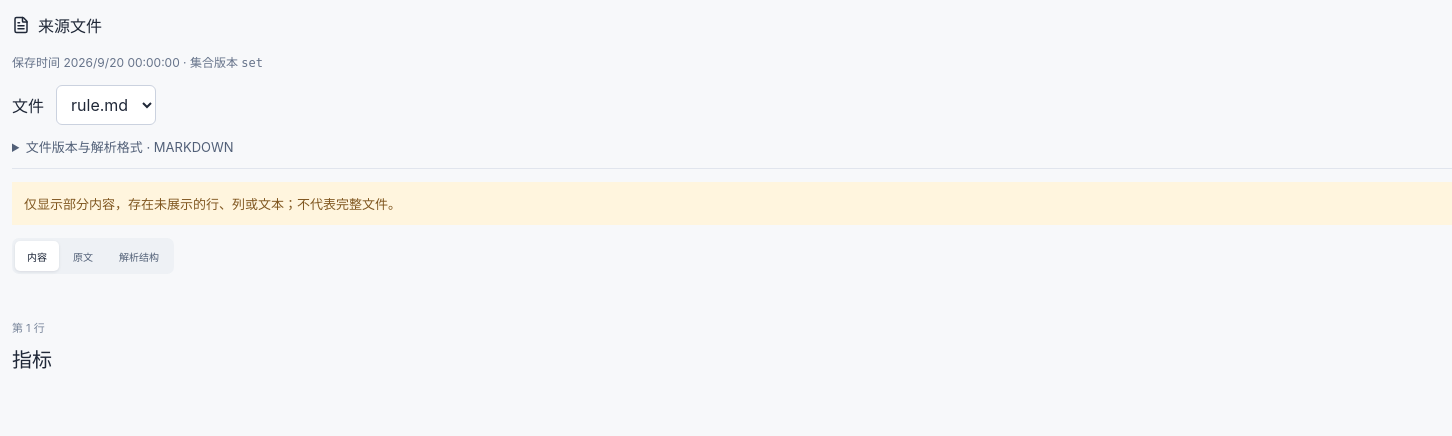
Test: previews inert markdown and makes truncation visible
Expected: the text "仅显示部分内容，存在未展示的行、列或文本；不代表完整文件。" is shown, [12,182,1451,225]
Expected: the heading "指标" is shown, [12,348,52,372]
Click the tab "原文". click: (83, 256)
box: [61,241,105,271]
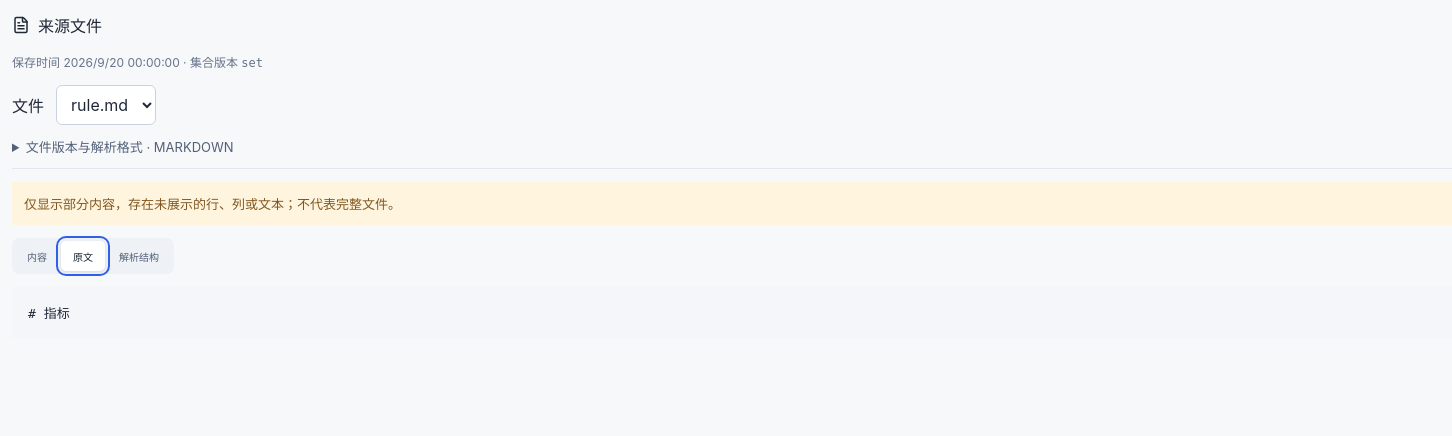
Result: the text "# 指标" is shown at [12,287,1451,338]
Click the tab "解析结构". click: (139, 256)
box: [107,241,171,271]
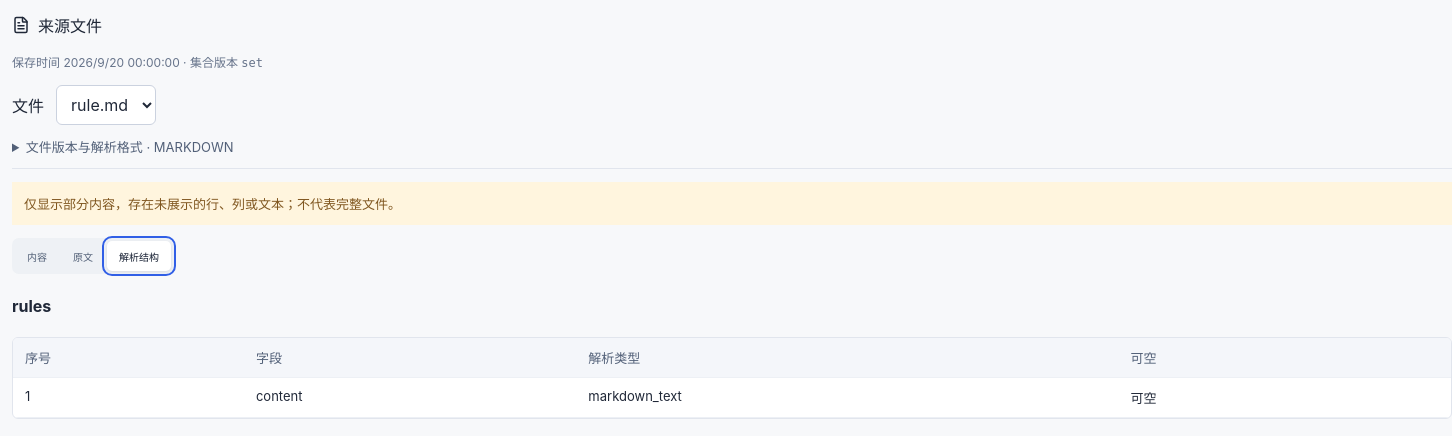
Result: the cell "markdown_text" is shown at [576,377,1119,417]
